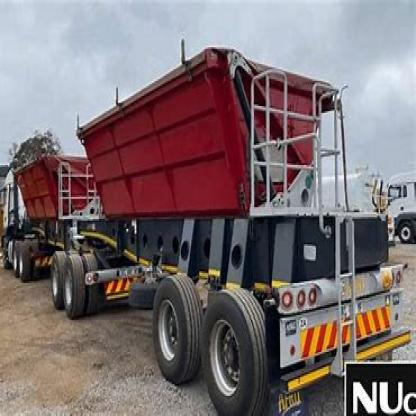dump_truck: (2, 36, 415, 404)
